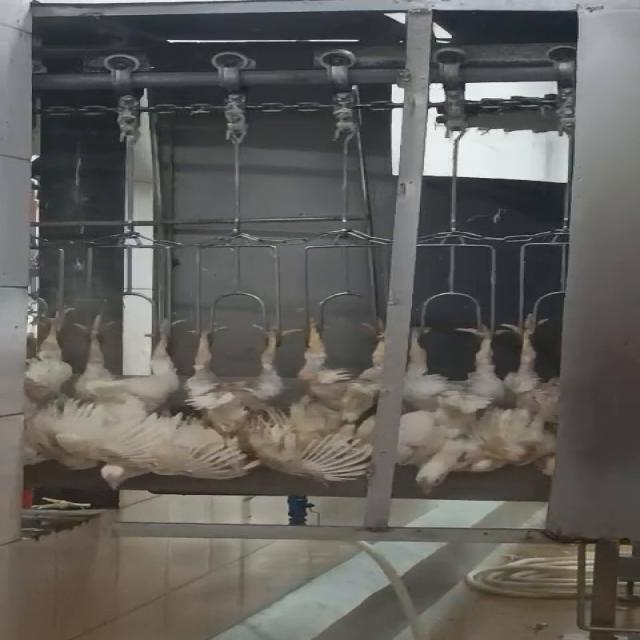chicken: (41, 310, 197, 493), (379, 313, 512, 498), (186, 314, 298, 480), (292, 316, 398, 486), (487, 311, 573, 476), (0, 307, 91, 417)
